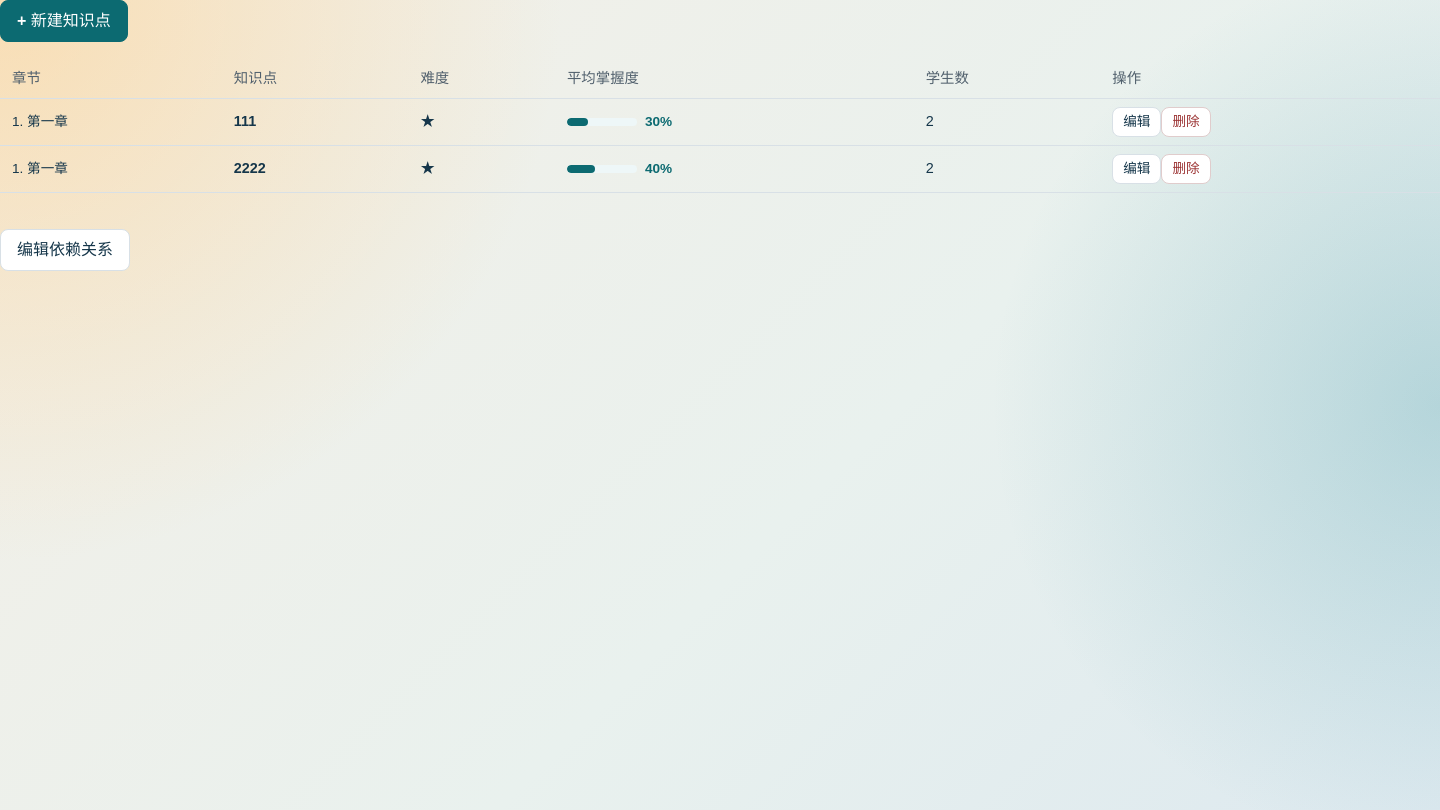
Scenario: TeacherKnowledgeStatsView › renders a dedicated wrapper inside dependency cells for prerequisite checkboxes
Click the button "编辑依赖关系" at (65, 250), box left=0, top=229, right=130, bottom=271
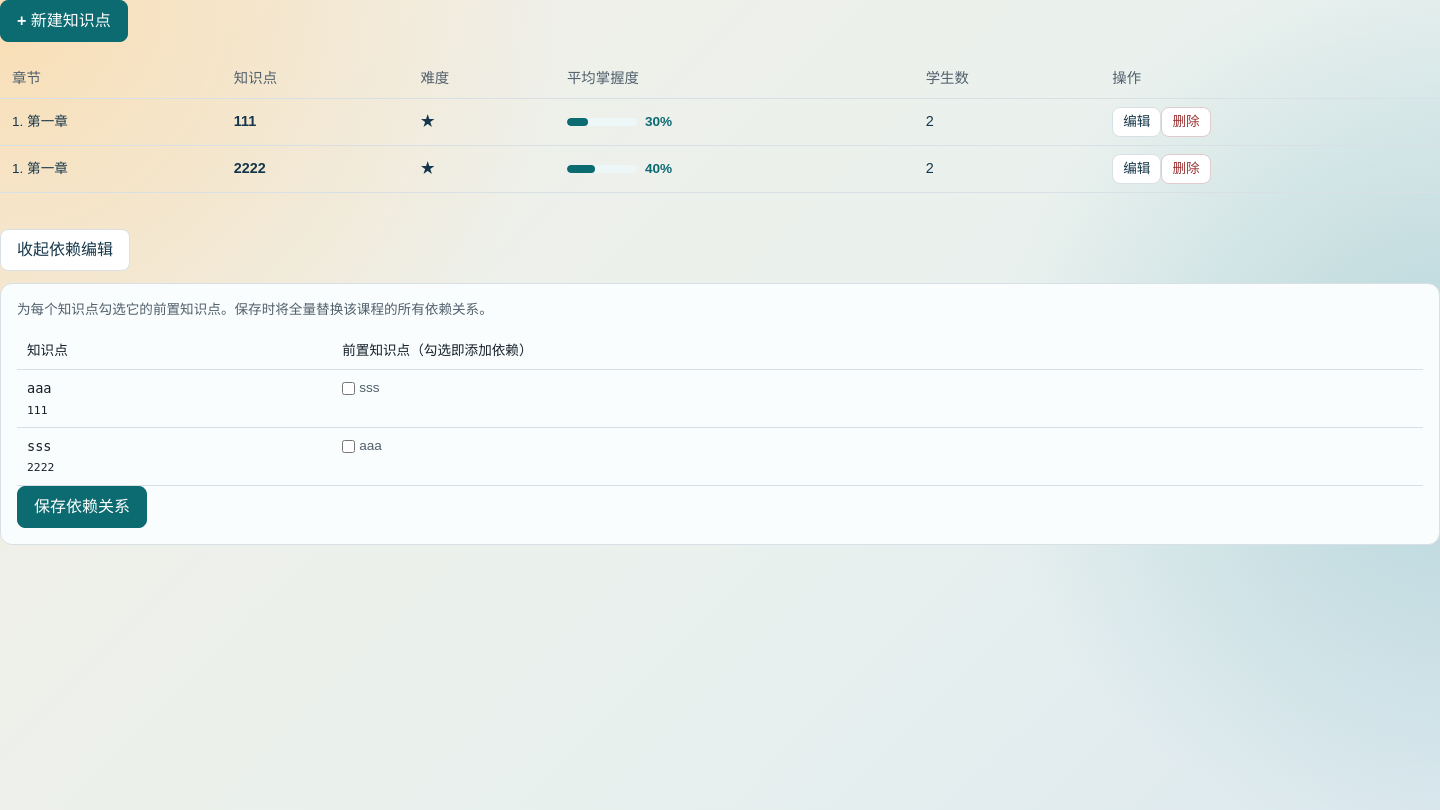
expect the element with class "deps-prereq-list" showing "sss" is shown: met, box left=342, top=380, right=380, bottom=395
